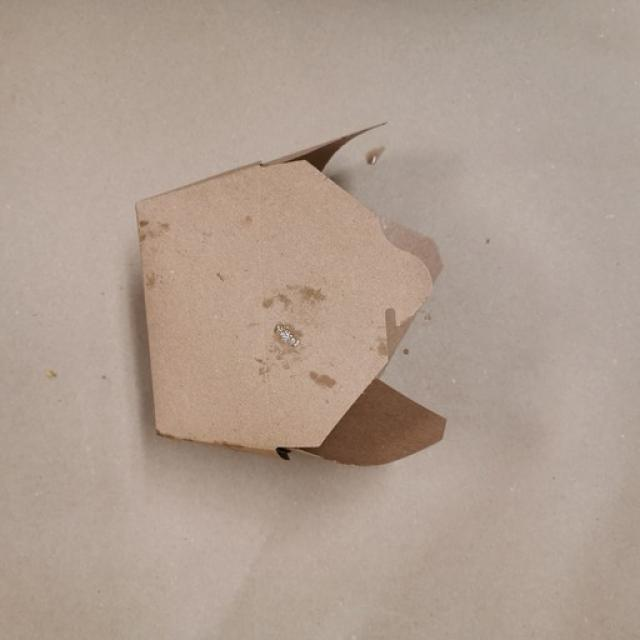PaperCardboard: (133, 116, 456, 460)
